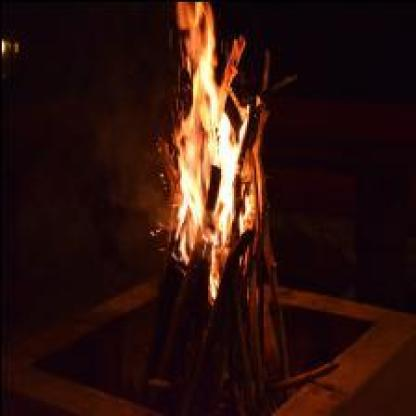Fire: (168, 0, 270, 317)
